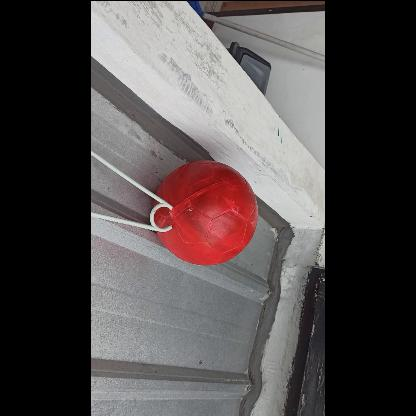red_ball: (154, 160, 260, 265)
